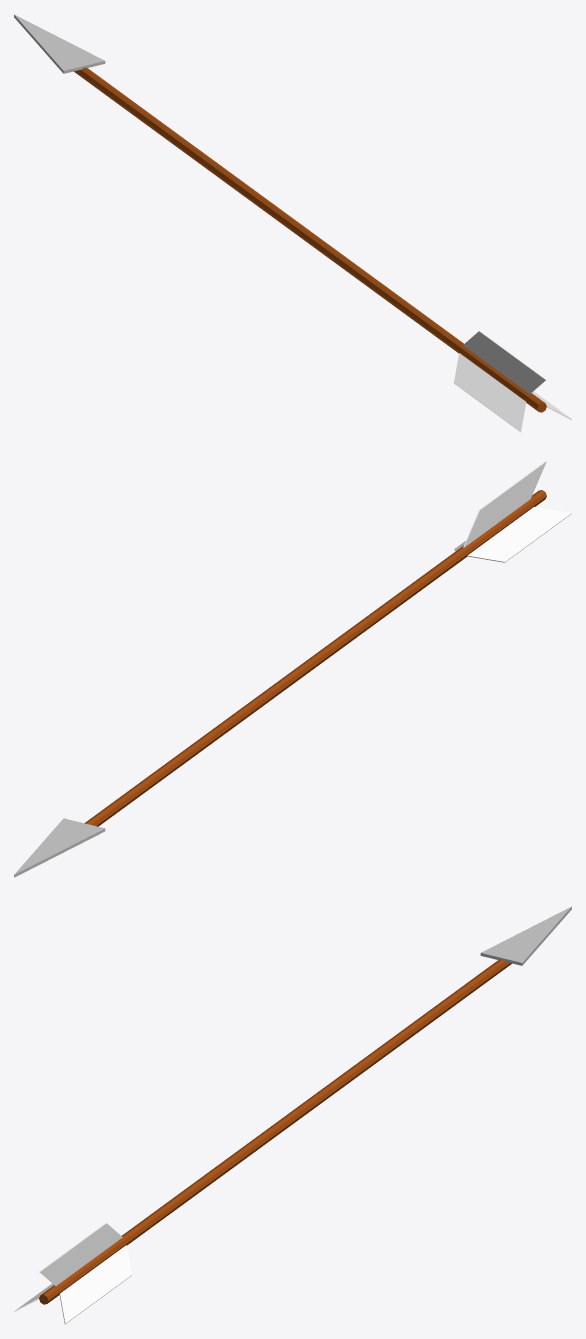
The model's file is Arrow_04.fbx.
3 renders of one model, top to bottom at view 1: azimuth 30°, elevation 25°; view 2: azimuth 150°, elevation 25°; view 3: azimuth 330°, elevation 25°, orthographic.
Parts seen in each view (by area): view 1: Arrow_04; view 2: Arrow_04; view 3: Arrow_04.
Part boxes in pixels (x1,y1,x2,y2): Arrow_04: [14, 14, 571, 432]; Arrow_04: [14, 461, 571, 877]; Arrow_04: [14, 906, 571, 1324].
Size of the model in its own units: 6.22 by 5.39 by 112.
